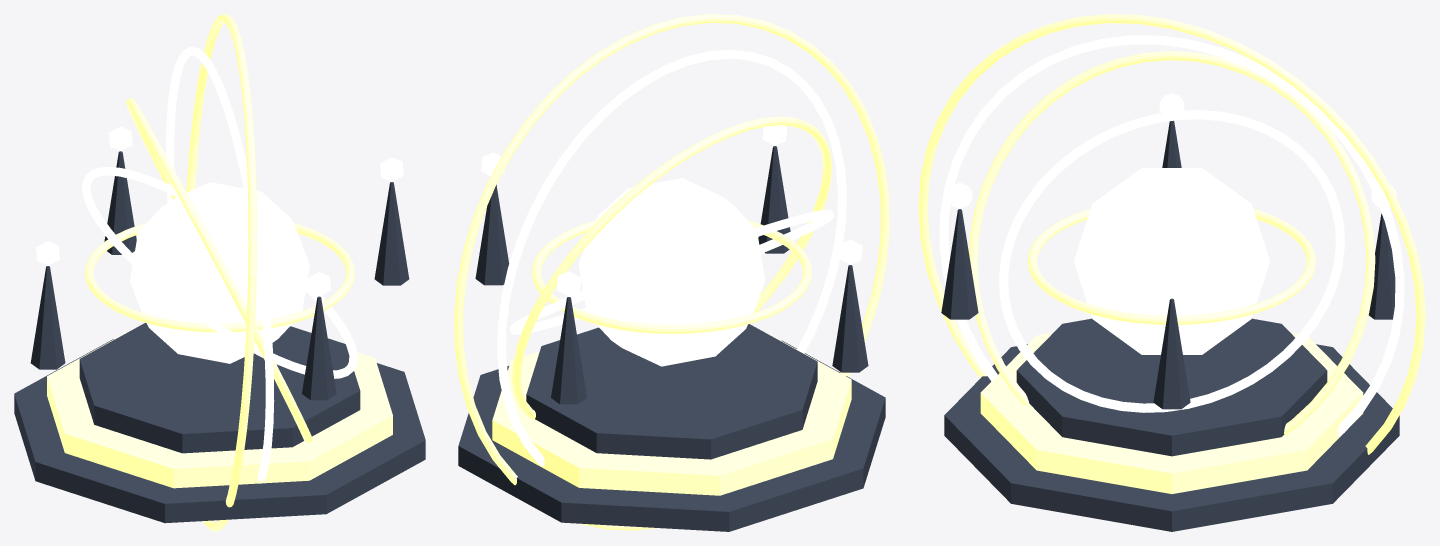
Rendered from gpu-blender-v18.glb.
The picture shows the model from 3 angles, left to right: view 1: azimuth 30°, elevation 25°; view 2: azimuth 150°, elevation 25°; view 3: azimuth 270°, elevation 25°; orthographic projection. The views are drawn at different scales.
Visible parts, largest first — view 1: Cylinder.002, SovereignCore_agent-capsule-jail, Cylinder, Cylinder.001, Torus.004, Torus.003, Torus.001, Torus, Torus.002, Cone.003, Cone, Cone.002 (+1 smaller); view 2: Cylinder.002, SovereignCore_agent-capsule-jail, Cylinder, Cylinder.001, Torus.004, Torus.003, Torus.002, Torus, Torus.001, Cone.001, Cone.002, Cone (+1 smaller); view 3: SovereignCore_agent-capsule-jail, Cylinder.002, Cylinder, Cylinder.001, Torus.004, Torus.001, Torus.003, Torus.002, Torus, Cone, Cone.003, Cone.001 (+1 smaller).
Boxes of the visible parts, bbox=[...] form: Cylinder.002: bbox=[79, 323, 360, 453]; SovereignCore_agent-capsule-jail: bbox=[130, 182, 309, 363]; Cylinder: bbox=[14, 339, 425, 523]; Cylinder.001: bbox=[47, 330, 392, 488]; Torus.004: bbox=[186, 14, 257, 531]; Torus.003: bbox=[165, 47, 274, 483]; Torus.001: bbox=[82, 166, 357, 378]; Torus: bbox=[85, 223, 354, 332]; Torus.002: bbox=[126, 98, 312, 442]; Cone.003: bbox=[302, 296, 336, 400]; Cone: bbox=[374, 182, 409, 285]; Cone.002: bbox=[30, 266, 65, 369]; Cylinder.002: bbox=[526, 324, 817, 459]; SovereignCore_agent-capsule-jail: bbox=[578, 178, 765, 366]; Cylinder: bbox=[458, 340, 885, 531]; Cylinder.001: bbox=[492, 331, 851, 495]; Torus.004: bbox=[454, 14, 889, 530]; Torus.003: bbox=[497, 49, 846, 466]; Torus.002: bbox=[512, 116, 831, 419]; Torus: bbox=[531, 220, 812, 333]; Torus.001: bbox=[510, 209, 833, 334]; Cone.001: bbox=[551, 297, 586, 404]; Cone.002: bbox=[832, 265, 868, 372]; Cone: bbox=[475, 184, 509, 285]; SovereignCore_agent-capsule-jail: bbox=[1073, 168, 1270, 354]; Cylinder.002: bbox=[1016, 318, 1327, 456]; Cylinder: bbox=[944, 344, 1399, 531]; Cylinder.001: bbox=[980, 332, 1363, 493]; Torus.004: bbox=[918, 14, 1425, 454]; Torus.001: bbox=[999, 110, 1344, 412]; Torus.003: bbox=[939, 35, 1404, 437]; Torus.002: bbox=[969, 51, 1375, 435]; Torus: bbox=[1027, 209, 1316, 324]; Cone: bbox=[1153, 298, 1190, 409]; Cone.003: bbox=[941, 209, 978, 319]; Cone.001: bbox=[1368, 213, 1395, 319].
Bounding box in the file's own units: 4.41 × 5.33 × 4.9.
